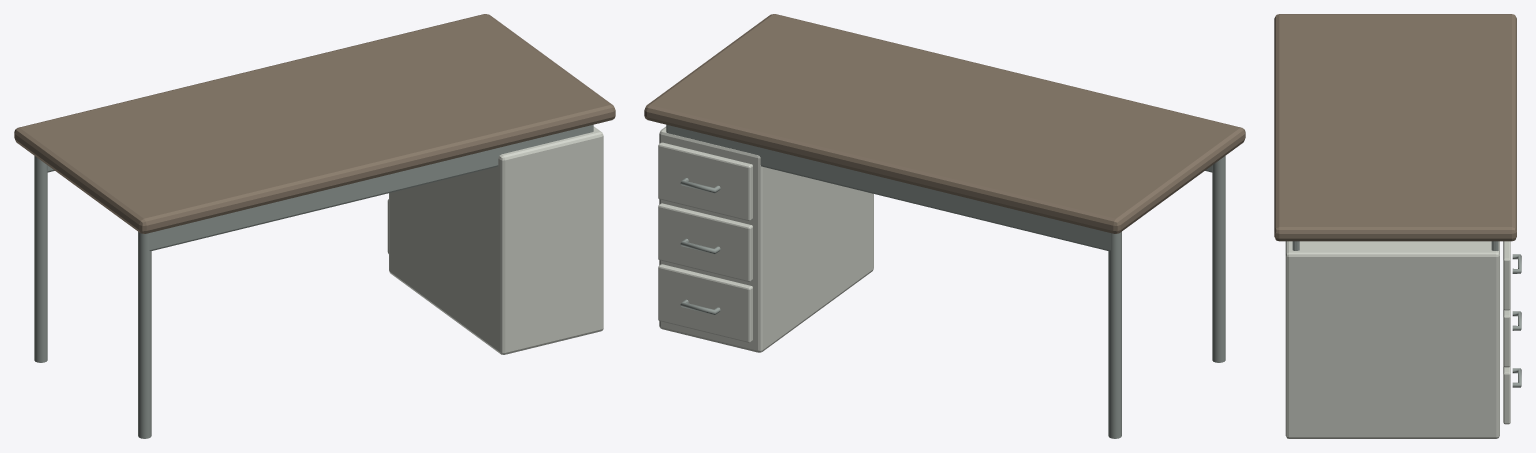
File: staff_desk.glb
3 views of the same model, side by side, from view 1: azimuth 30°, elevation 25°; view 2: azimuth 150°, elevation 25°; view 3: azimuth 270°, elevation 25° (orthographic). The views are drawn at different scales.
Visible parts, largest first — view 1: KitWood, KitIvory, KitSteel; view 2: KitWood, KitIvory, KitSteel; view 3: KitWood, KitIvory, KitSteel.
Part boxes in pixels (left/top/right/bottom): KitWood: left=14, top=14, right=615, bottom=233; KitIvory: left=387, top=126, right=603, bottom=354; KitSteel: left=34, top=124, right=593, bottom=438; KitWood: left=644, top=14, right=1245, bottom=233; KitIvory: left=658, top=126, right=873, bottom=352; KitSteel: left=666, top=124, right=1225, bottom=438; KitWood: left=1274, top=14, right=1516, bottom=241; KitIvory: left=1285, top=241, right=1510, bottom=438; KitSteel: left=1292, top=241, right=1521, bottom=387.
Bounding box in the file's own units: 1.8 × 0.8275 × 0.8664.
